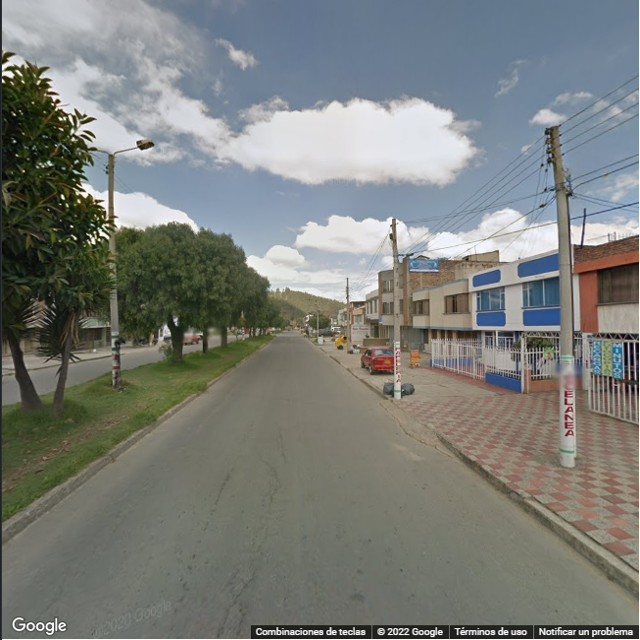D00: (215, 563, 258, 637), (246, 439, 279, 483), (255, 495, 273, 554)
